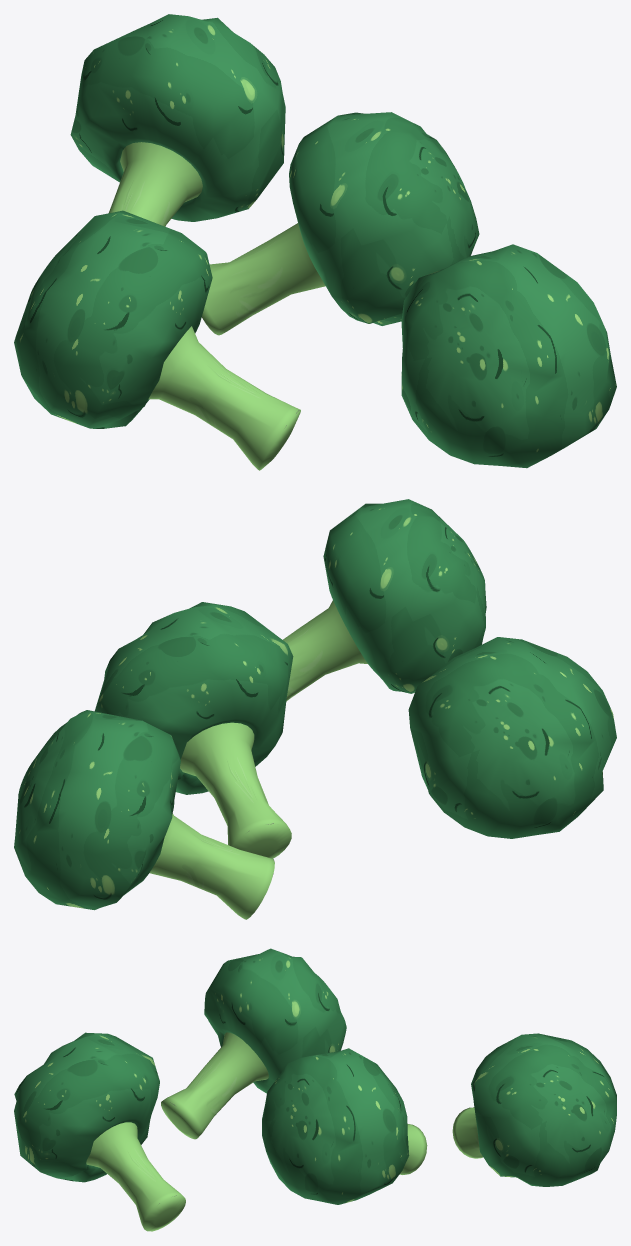
Rendered from broccoli-cut.FBX.
The picture shows the model from 3 angles, top to bottom: view 1: azimuth 30°, elevation 25°; view 2: azimuth 150°, elevation 25°; view 3: azimuth 270°, elevation 25°; orthographic projection. The views are drawn at different scales.
Visible parts, largest first — view 1: Little Broccoli (×4); view 2: Little Broccoli (×4); view 3: Little Broccoli (×4).
Part boxes in pixels (x1,y1,x2,y2): Little Broccoli (×4): (14,14,616,470); Little Broccoli (×4): (14,499,616,919); Little Broccoli (×4): (14,948,616,1231).
Size of the model in its own units: 38.99 by 16.98 by 59.92.
